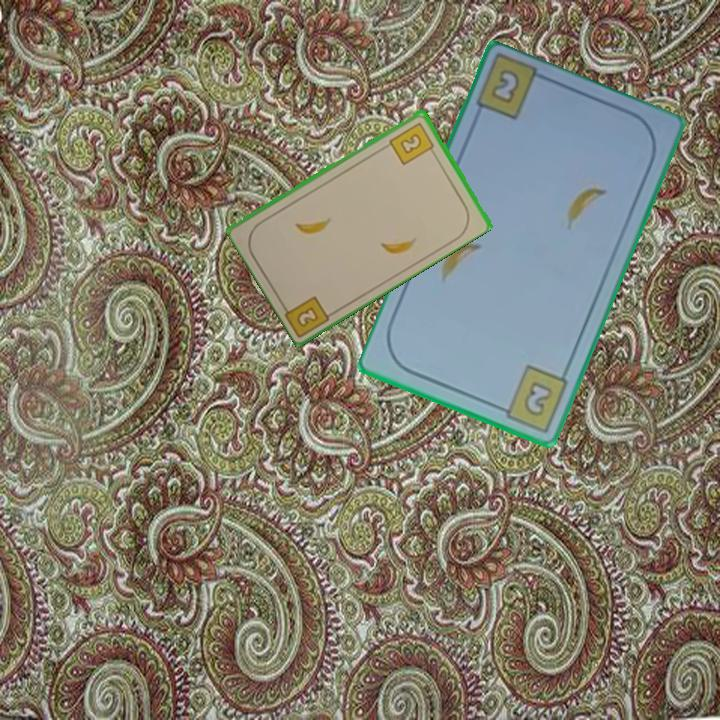2b: (492, 361, 572, 435), (386, 118, 437, 167), (487, 66, 523, 108), (293, 303, 322, 330)
